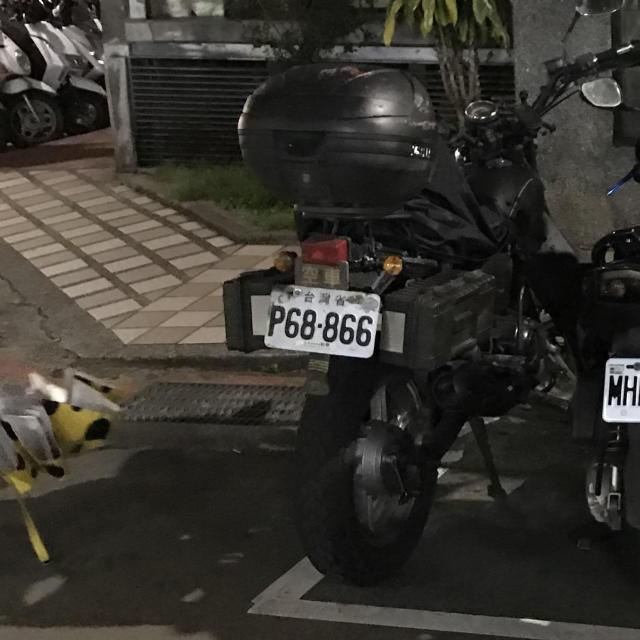W: (254, 277, 386, 364), (592, 345, 640, 433)
